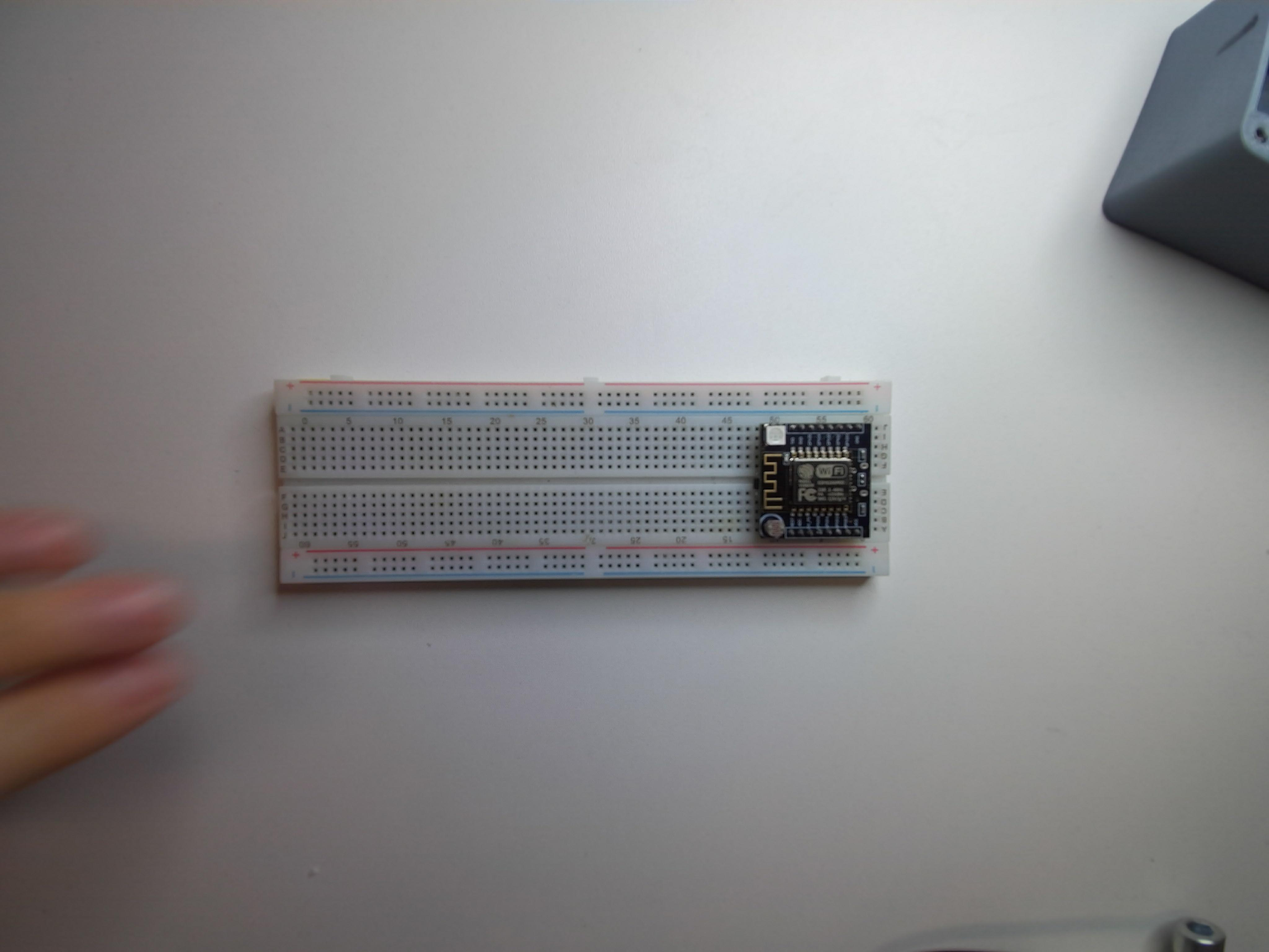base: (266, 379, 896, 593)
esp: (753, 419, 876, 543)
